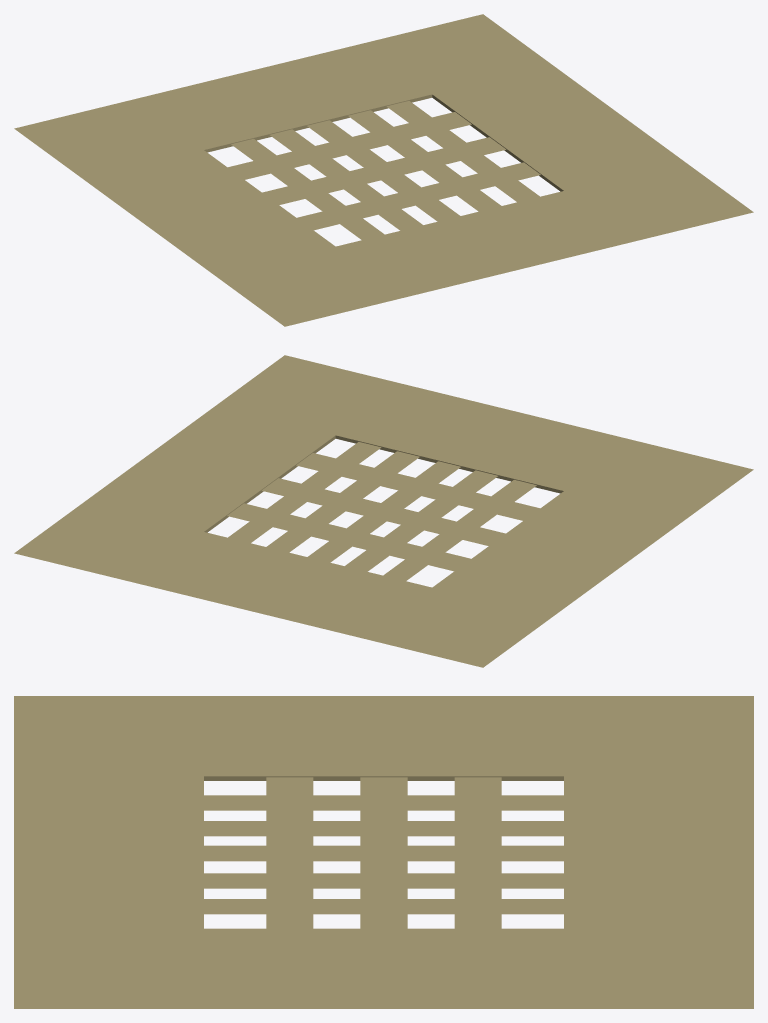
File: floor grate.fbx
3 views of the same model, one above another, from view 1: azimuth 30°, elevation 25°; view 2: azimuth 150°, elevation 25°; view 3: azimuth 270°, elevation 25° (orthographic). The views are drawn at different scales.
Visible parts, largest first — view 1: floor_grate; view 2: floor_grate; view 3: floor_grate.
Part boxes in pixels (x1,y1,x2,y2): floor_grate: (14, 14, 753, 326); floor_grate: (14, 355, 753, 667); floor_grate: (14, 696, 753, 1008).
Bounding box in the file's own units: 5 × 0.0337 × 5.
